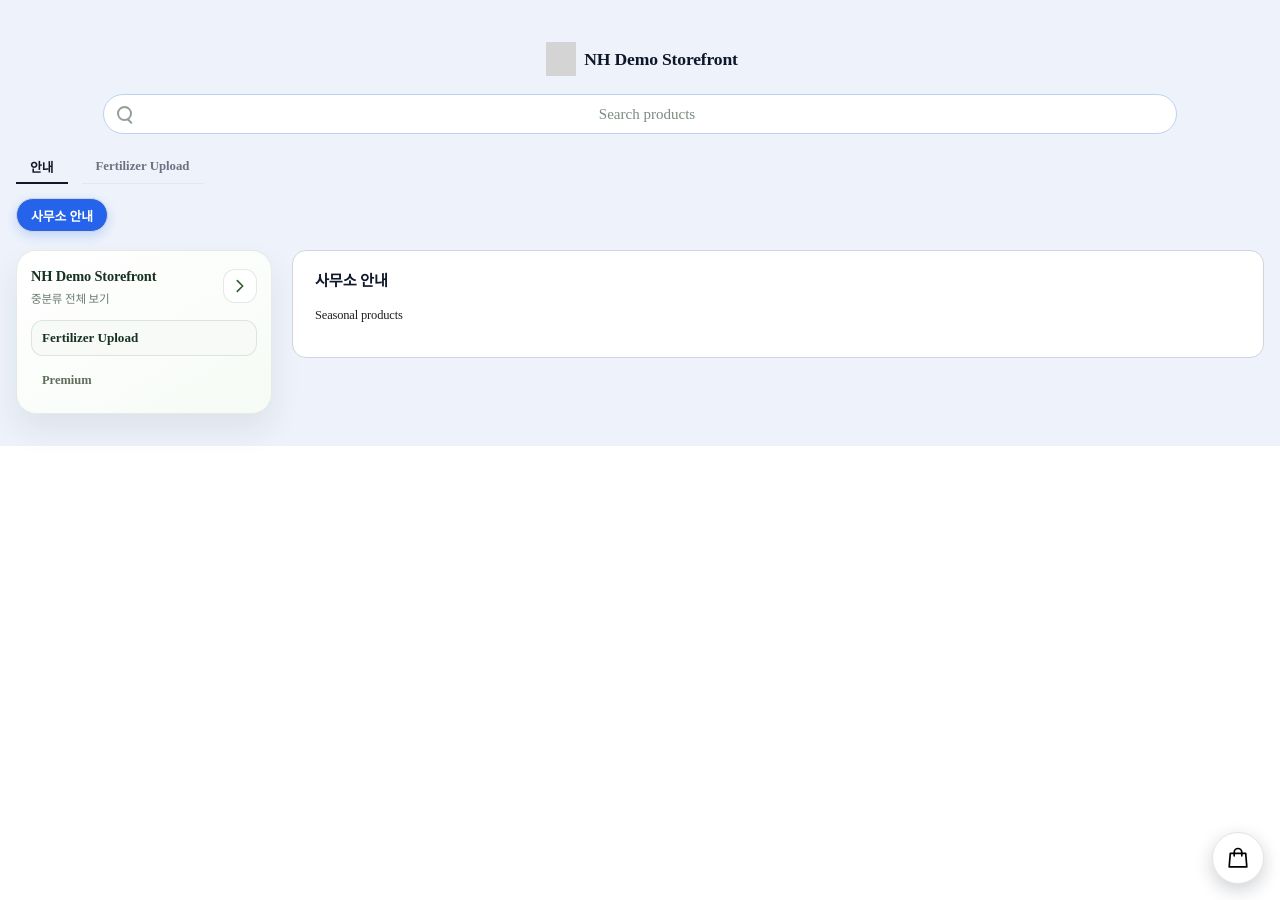
Test: PublicStorefrontPage › renders an image-left card template with muted price color and a custom header style
The width and height of the screenshot is (1280, 900).
Click the 1st button "Fertilizer Upload" at (142, 167), box [82, 150, 204, 184]
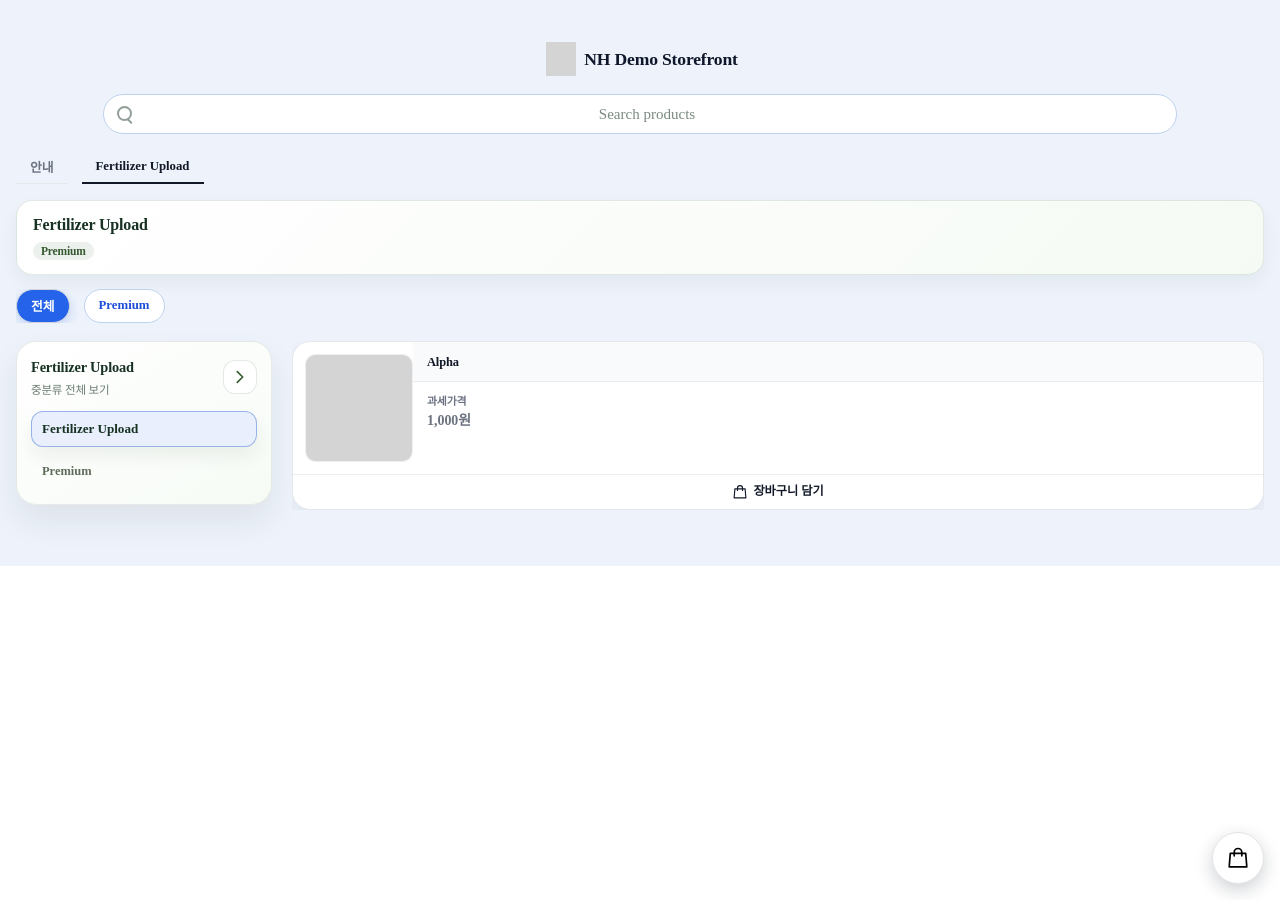
Check: the text "Alpha" is shown, box [427, 355, 459, 369]
